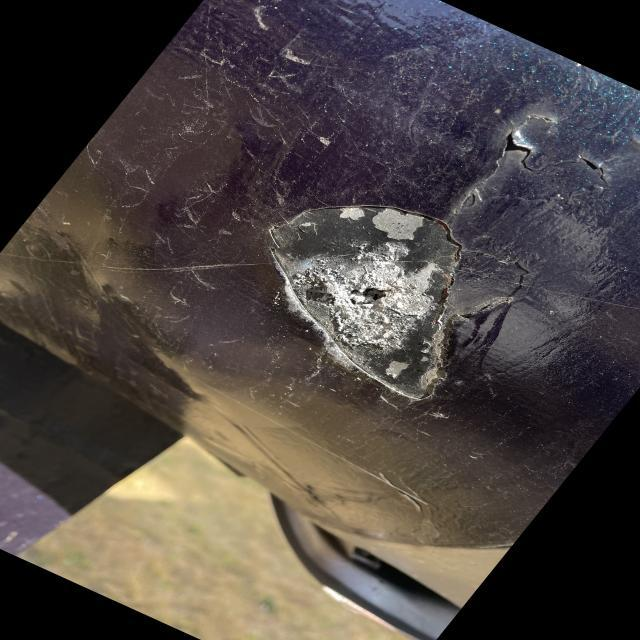crack: (499, 124, 616, 192)
dent: (275, 199, 488, 409)
